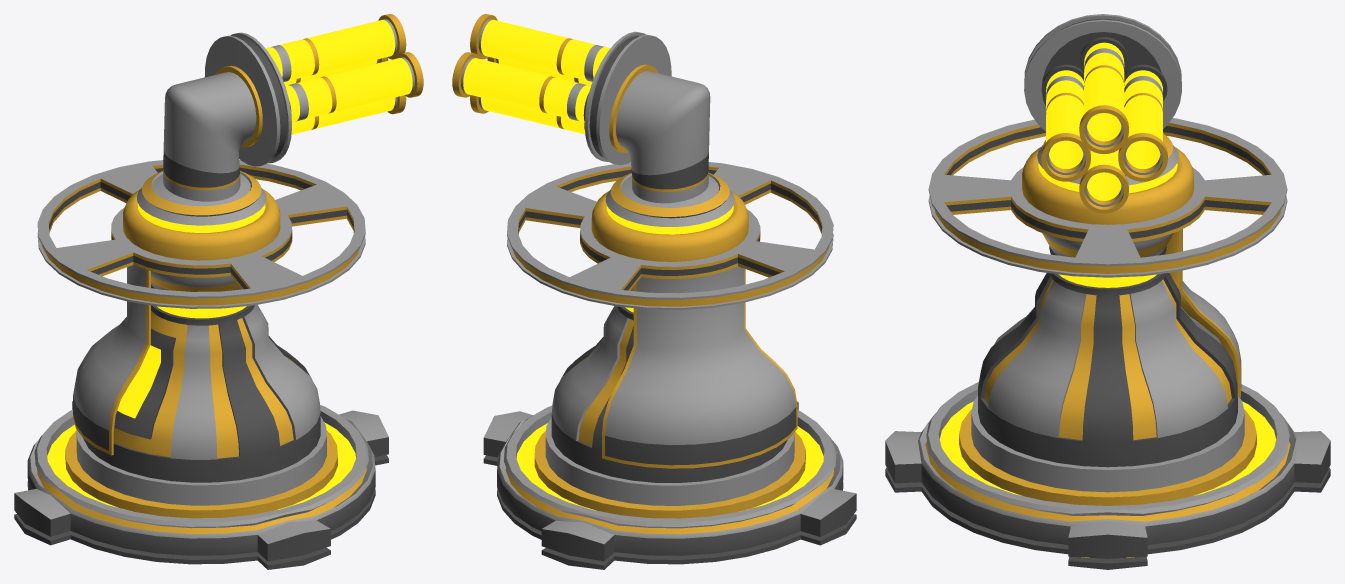
File: TowerB.fbx
3 views of the same model, side by side, from view 1: azimuth 30°, elevation 25°; view 2: azimuth 150°, elevation 25°; view 3: azimuth 270°, elevation 25° (orthographic). The views are drawn at different scales.
Parts seen in each view (by area): view 1: TowerB, JointA, DiscDetailB, TowerBShield; view 2: TowerB, JointA, TowerBShield, DiscDetailB; view 3: TowerB, JointA, DiscDetailB, TowerBShield.
Boxes of the visible parts, x1,y1,x2,y2 form: TowerB: (14, 171, 388, 569); JointA: (163, 14, 423, 201); DiscDetailB: (37, 160, 365, 308); TowerBShield: (73, 265, 150, 455); TowerB: (483, 173, 856, 569); JointA: (452, 14, 710, 203); TowerBShield: (602, 266, 797, 468); DiscDetailB: (507, 162, 833, 309); TowerB: (885, 133, 1330, 569); JointA: (1024, 14, 1181, 213); DiscDetailB: (928, 118, 1287, 277); TowerBShield: (1165, 229, 1241, 397).
Size of the model in its own units: 116 by 134 by 112.
